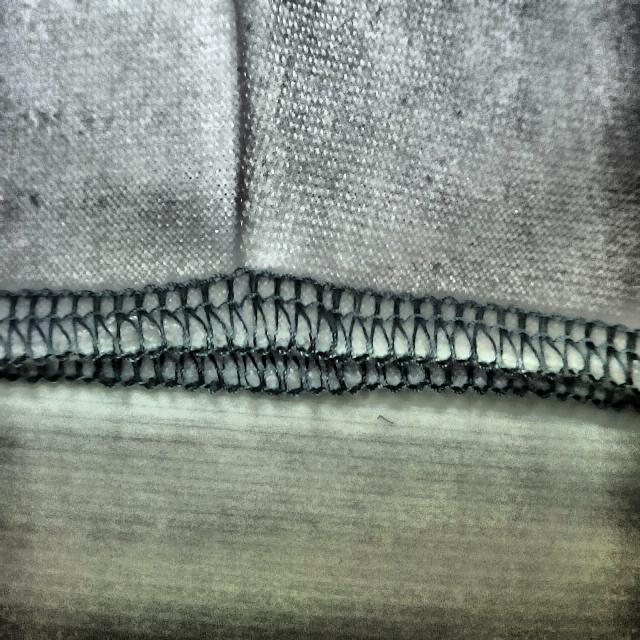seam: (194, 60, 308, 351)
